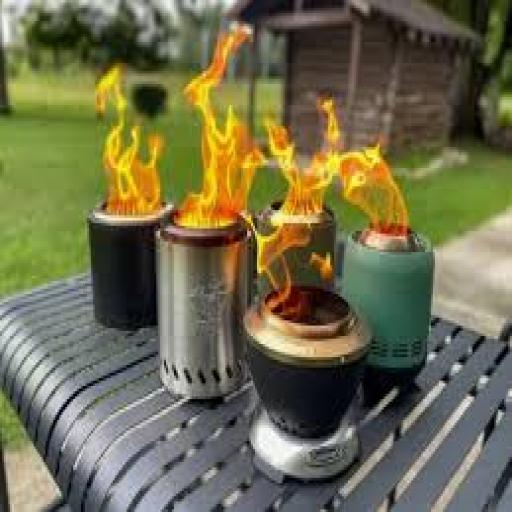smoke: (89, 29, 429, 336)
